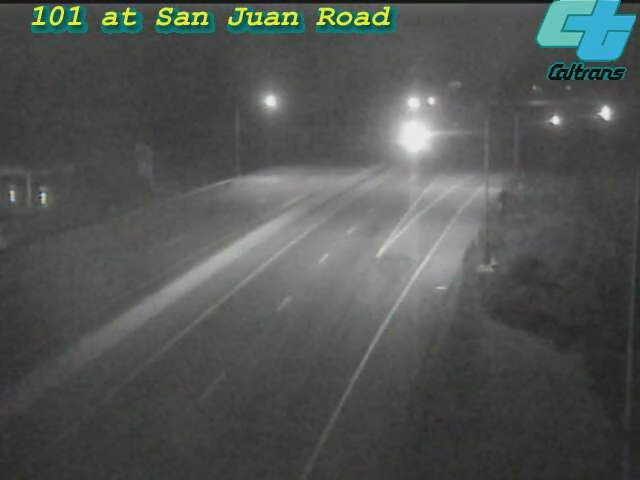vehicle: (387, 112, 437, 162), (531, 95, 581, 145), (579, 91, 629, 141)
